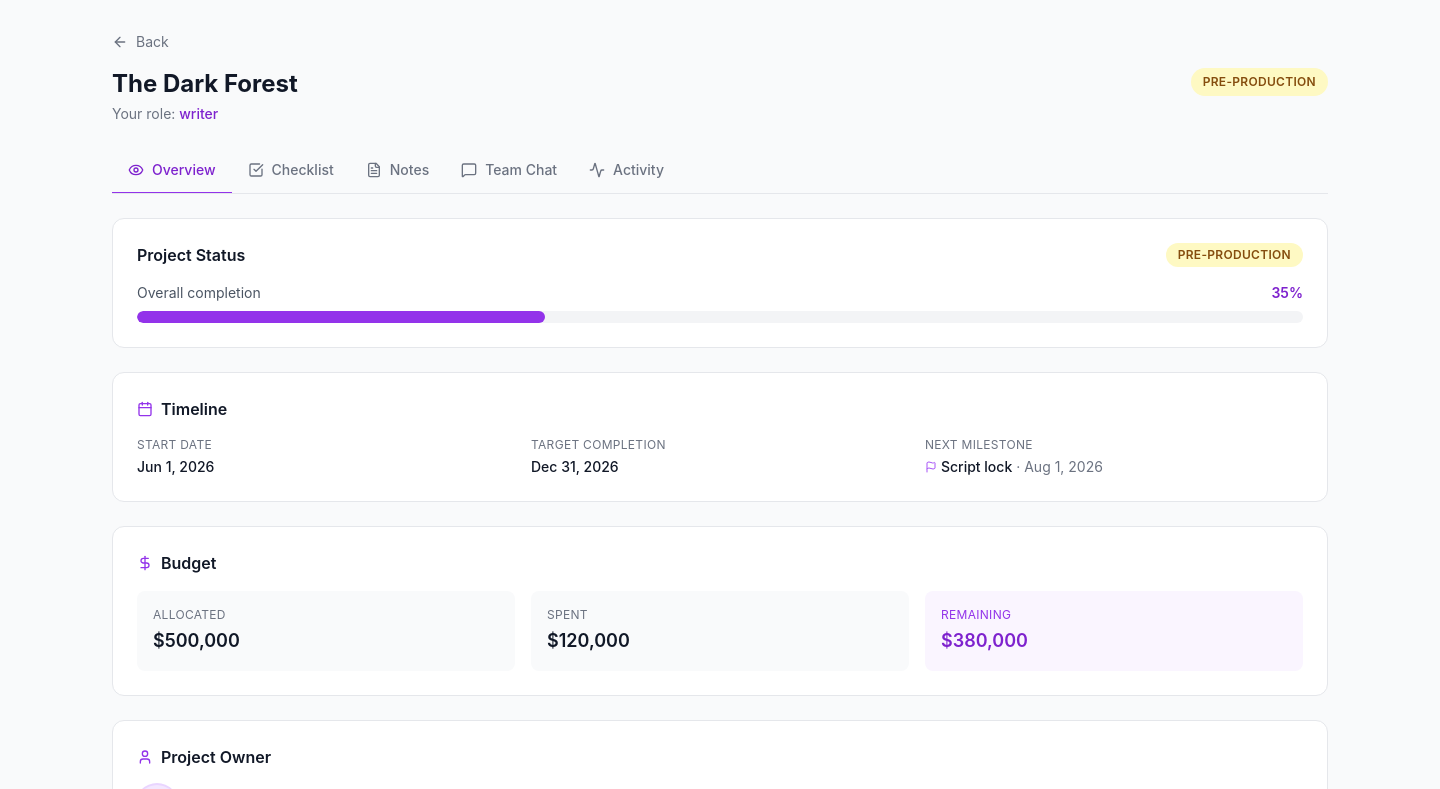
Test: CollaborationProjectView › Checklist tab › renders checklist items after loading
Click the button "Checklist" at (291, 171), box x1=232 y1=148 x2=350 y2=194
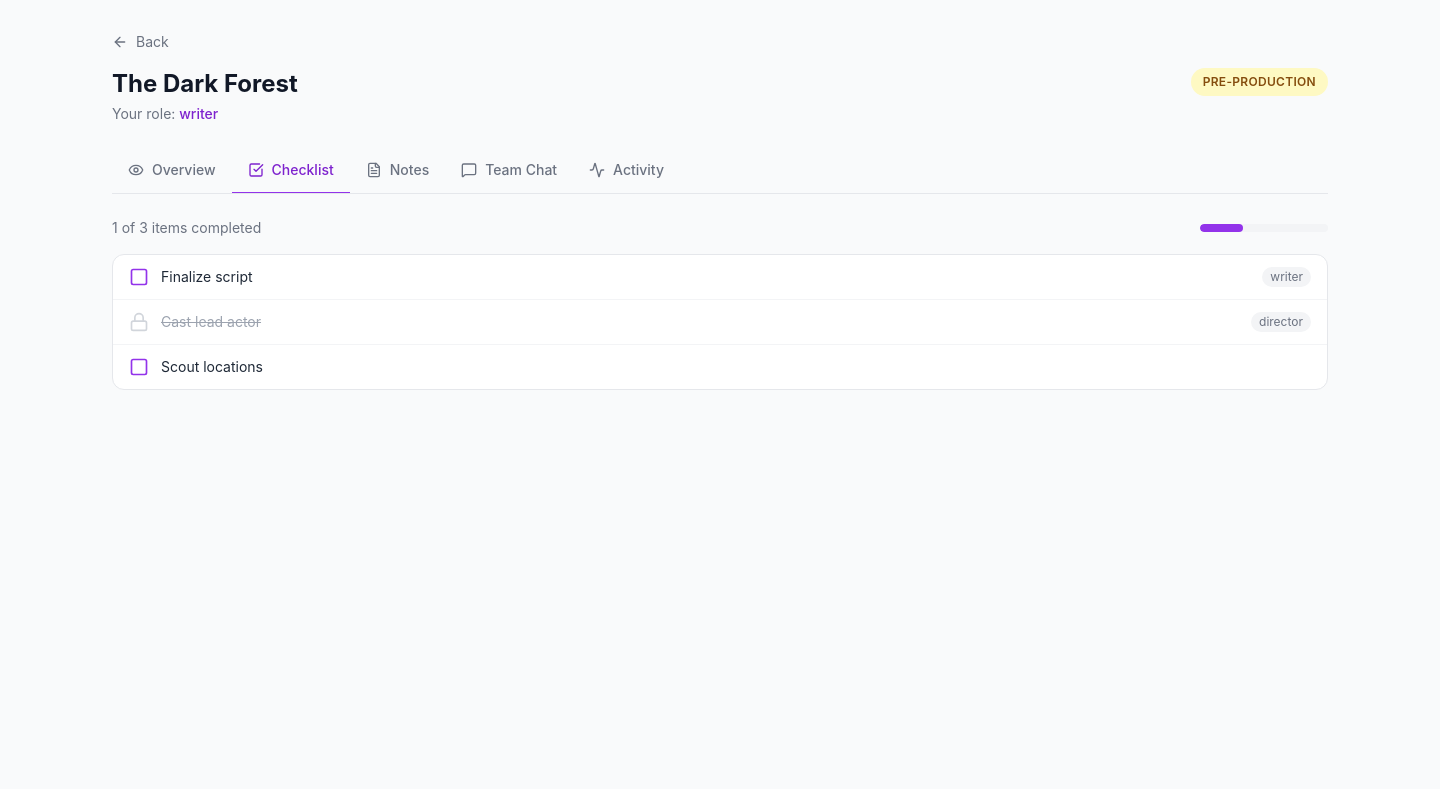
Expected: the text "Finalize script" is shown, x1=161 y1=268 x2=252 y2=285
Expected: the text "Cast lead actor" is shown, x1=161 y1=313 x2=261 y2=330
Expected: the text "Scout locations" is shown, x1=161 y1=358 x2=263 y2=375
